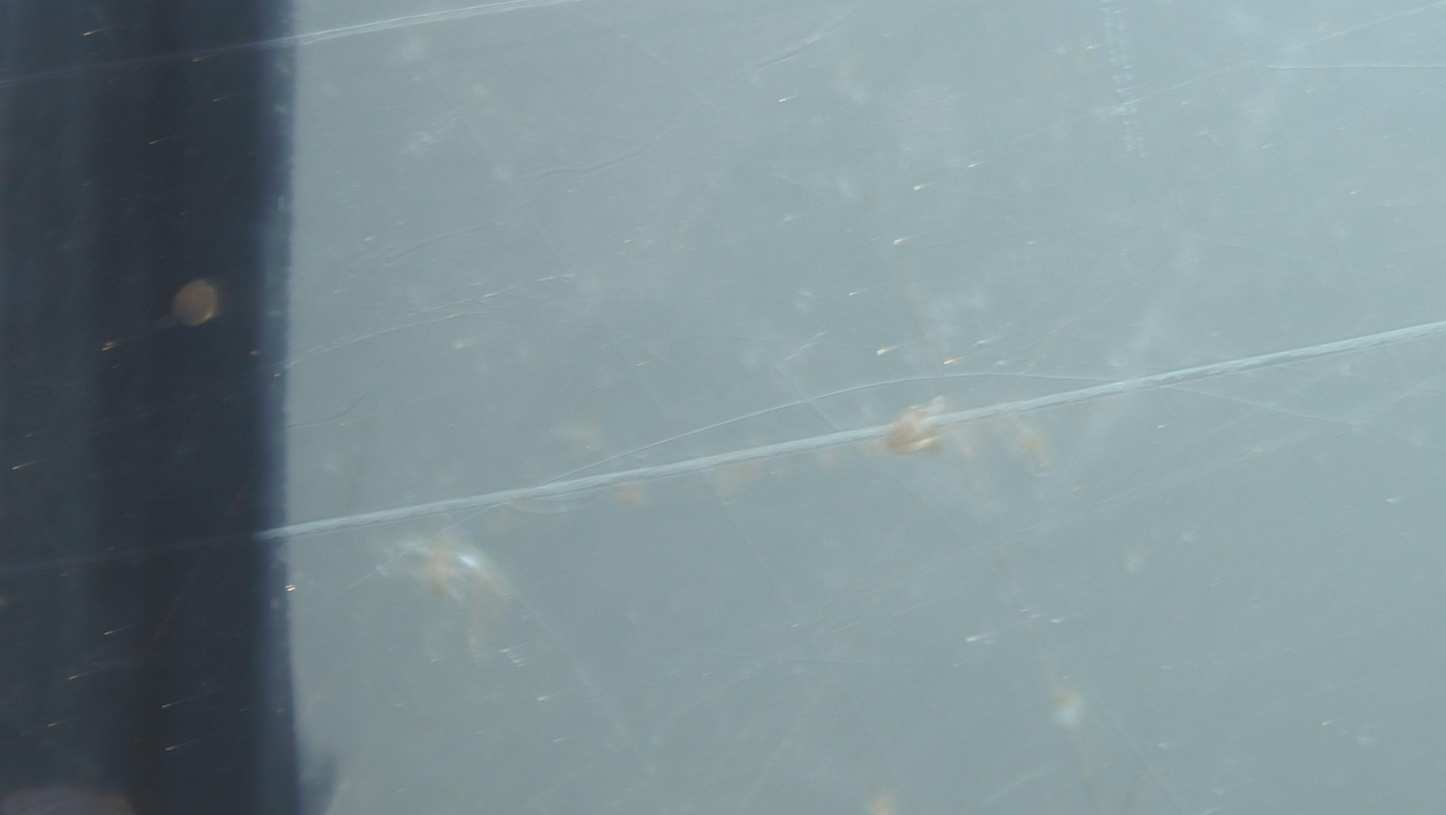live: (884, 400, 944, 454), (172, 280, 221, 326)
